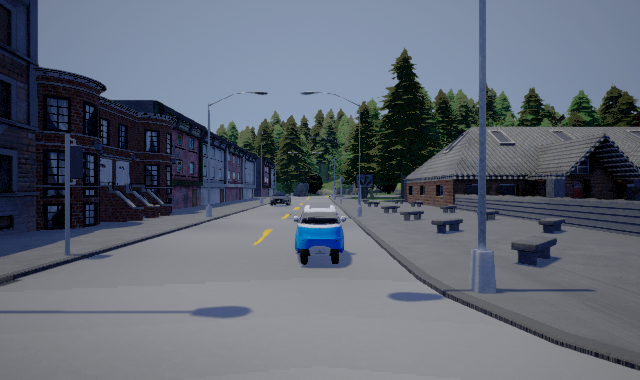vehicle: (293, 204, 347, 265), (267, 192, 291, 206)
